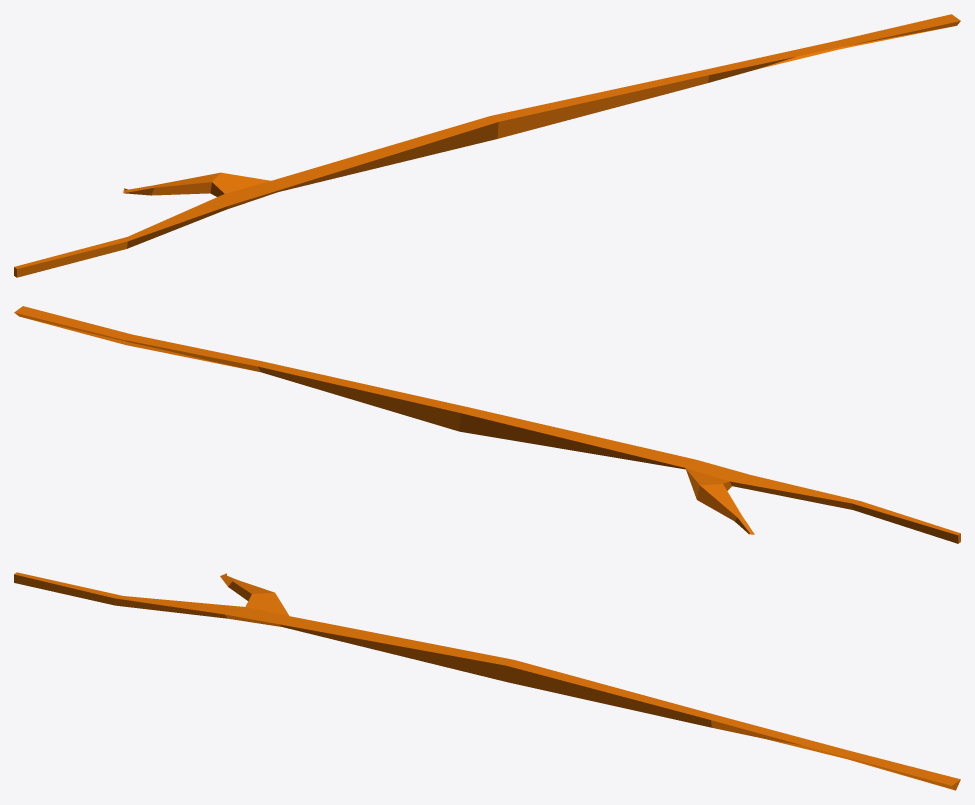
File: stick.fbx
3 renders of one model, top to bottom at view 1: azimuth 30°, elevation 25°; view 2: azimuth 150°, elevation 25°; view 3: azimuth 330°, elevation 25°, orthographic. The views are drawn at different scales.
Parts seen in each view (by area): view 1: sticky; view 2: sticky; view 3: sticky.
Boxes of the visible parts, left/top/right/bottom form: sticky: left=14, top=14, right=960, bottom=277; sticky: left=14, top=306, right=960, bottom=543; sticky: left=14, top=572, right=960, bottom=790.
Bounding box in the file's own units: 8.35 × 0.2232 × 0.9037.
